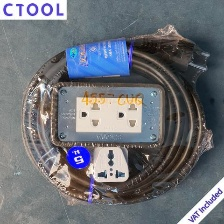three_eye_plug: (48, 75, 169, 150)
